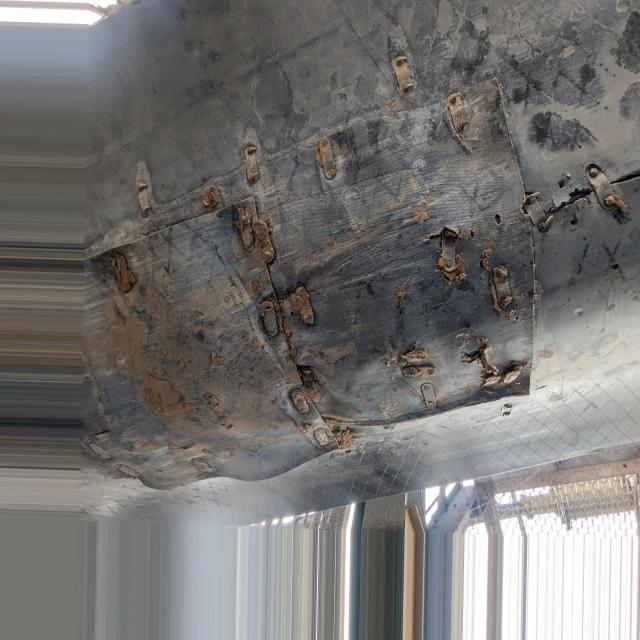patch work: (98, 38, 631, 458)
